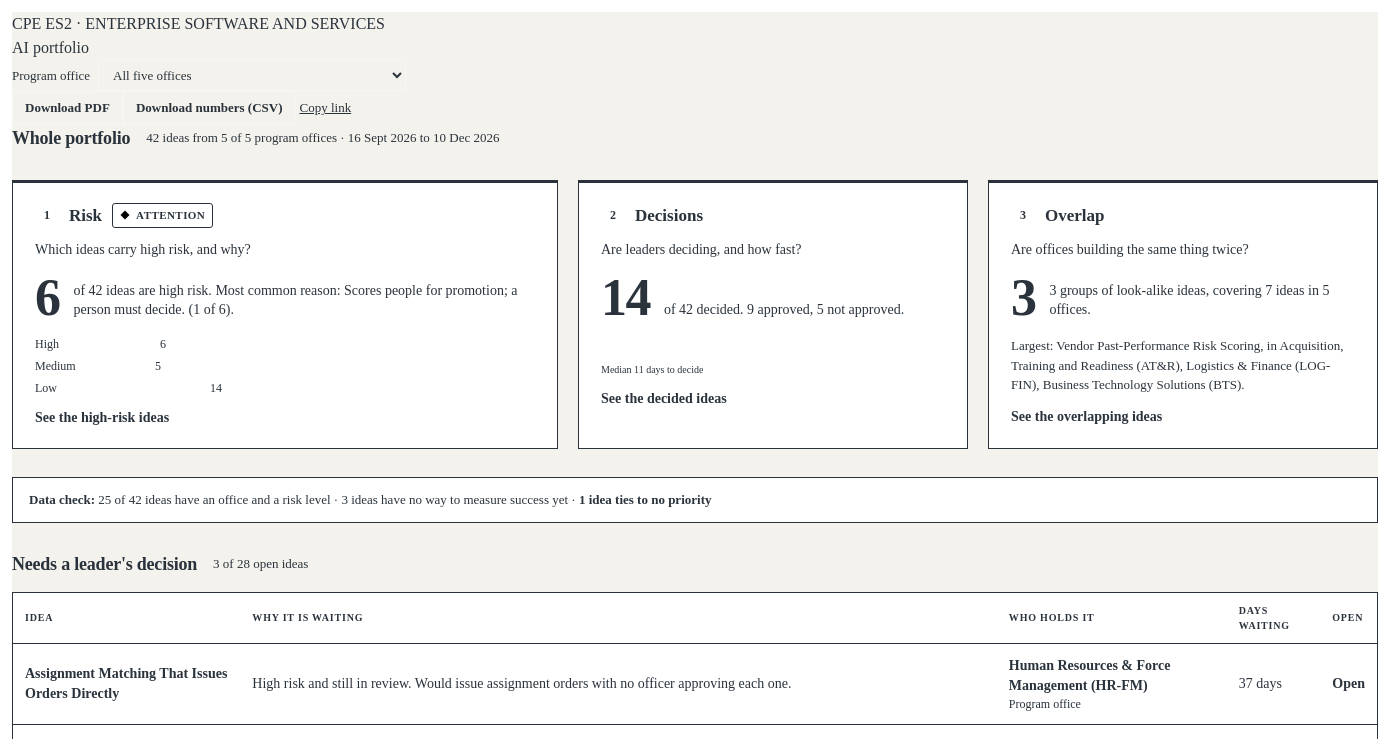
ReportScreen (ES2) › says so, once, if the file cannot be made
What coordinates should you click on to do the following:
click the button "Download PDF"
I would click on:
 (67, 108)
Its box is [12,91,123,124].
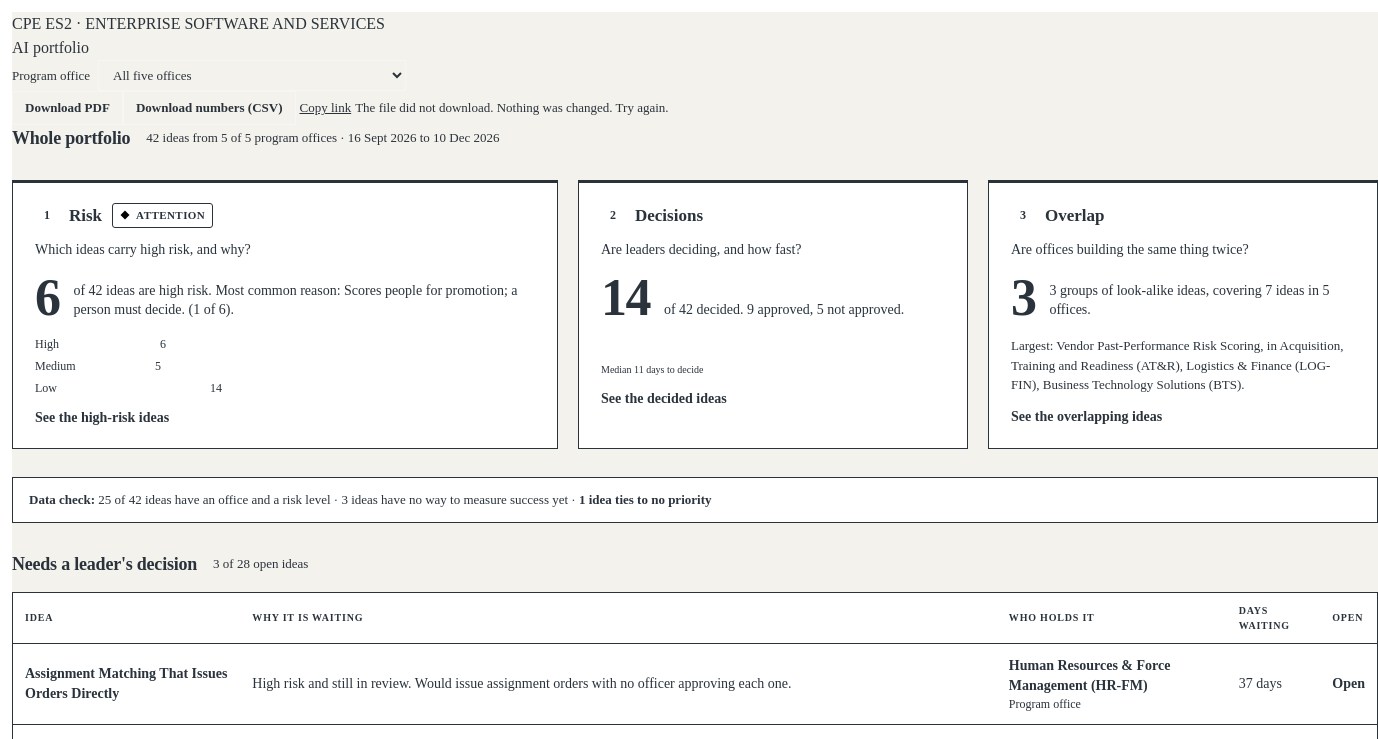
Expected: the text "The file did not download. Nothing was changed. Try again." is shown, [355,100,669,115]
